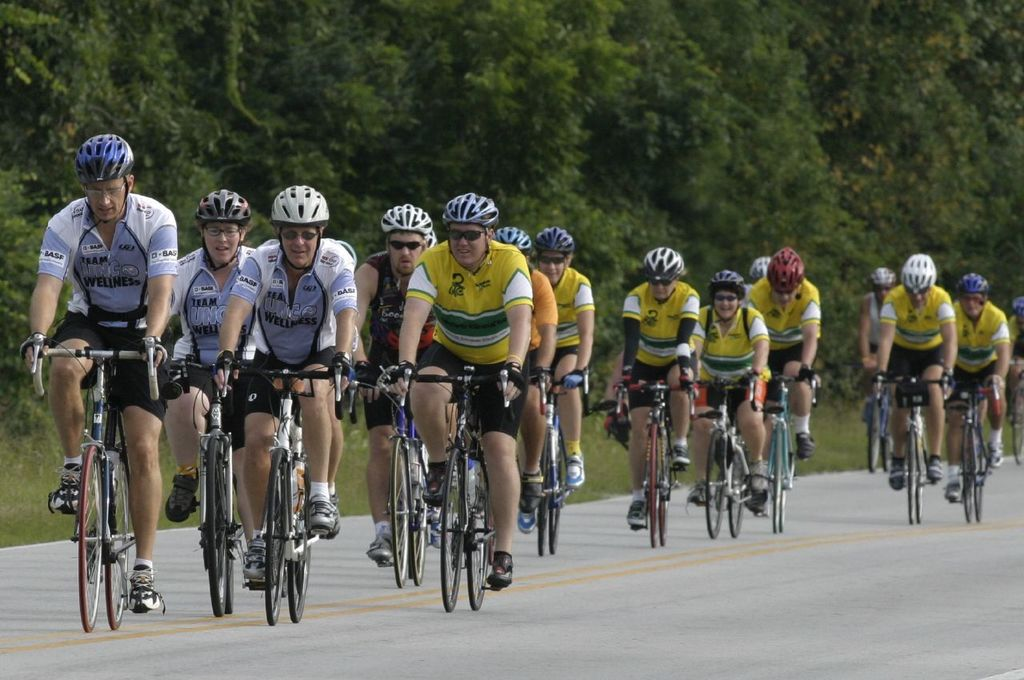Bike_toward: (19, 333, 173, 635), (215, 354, 351, 624), (382, 364, 528, 613), (613, 376, 701, 552), (868, 369, 955, 524)
